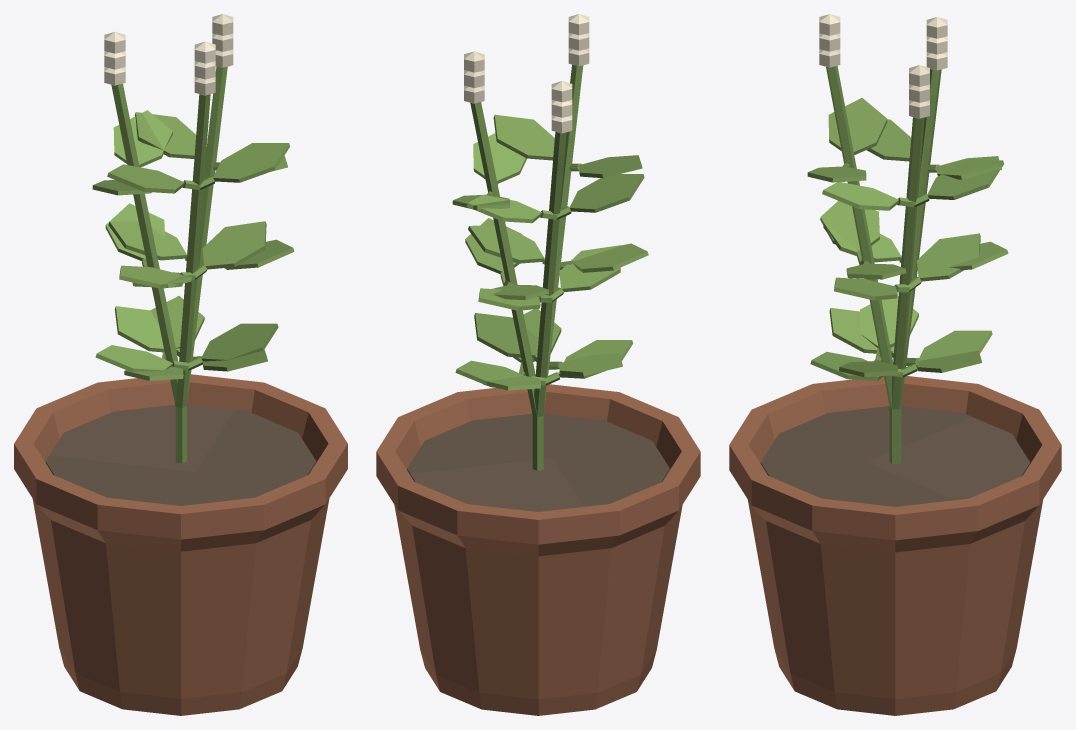
File: basil.glb
The picture shows the model from 3 angles, left to right: view 1: azimuth 30°, elevation 25°; view 2: azimuth 150°, elevation 25°; view 3: azimuth 270°, elevation 25°; orthographic projection. The views are drawn at different scales.
Parts seen in each view (by area): view 1: basil/review-terra-vessel, basil/review-rooted-soil, basil/stem-017, basil/stem-001, basil/stem-033, basil/leaf-025, basil/leaf-029, basil/leaf-021, basil/leaf-045, basil/leaf-037, basil/leaf-041, basil/leaf-011 (+9 smaller); view 2: basil/review-terra-vessel, basil/review-rooted-soil, basil/stem-001, basil/stem-033, basil/stem-017, basil/leaf-029, basil/leaf-013, basil/leaf-021, basil/leaf-025, basil/leaf-043, basil/leaf-009, basil/leaf-023 (+11 smaller); view 3: basil/review-terra-vessel, basil/review-rooted-soil, basil/stem-033, basil/stem-017, basil/stem-001, basil/leaf-041, basil/leaf-027, basil/leaf-045, basil/leaf-023, basil/leaf-037, basil/leaf-043, basil/leaf-005 (+11 smaller).
Boxes of the visible parts, <box> form: basil/review-terra-vessel: <box>14,374,347,715</box>; basil/review-rooted-soil: <box>45,404,316,505</box>; basil/stem-017: <box>175,94,210,460</box>; basil/stem-001: <box>111,83,182,463</box>; basil/stem-033: <box>182,66,227,463</box>; basil/leaf-025: <box>202,221,266,269</box>; basil/leaf-029: <box>213,143,289,182</box>; basil/leaf-021: <box>201,323,278,361</box>; basil/leaf-045: <box>135,112,196,158</box>; basil/leaf-037: <box>114,306,179,352</box>; basil/leaf-041: <box>108,221,186,260</box>; basil/leaf-011: <box>113,110,172,167</box>; basil/review-terra-vessel: <box>376,384,700,715</box>; basil/review-rooted-soil: <box>407,413,669,511</box>; basil/stem-001: <box>532,132,566,470</box>; basil/stem-033: <box>470,102,543,470</box>; basil/stem-017: <box>540,64,583,467</box>; basil/leaf-029: <box>493,114,554,160</box>; basil/leaf-013: <box>569,174,644,212</box>; basil/leaf-021: <box>474,312,537,358</box>; basil/leaf-025: <box>468,225,543,263</box>; basil/leaf-043: <box>473,133,526,183</box>; basil/leaf-009: <box>559,245,620,291</box>; basil/leaf-023: <box>572,243,648,272</box>; basil/review-terra-vessel: <box>729,376,1061,715</box>; basil/review-rooted-soil: <box>760,406,1030,506</box>; basil/stem-033: <box>889,117,924,463</box>; basil/stem-017: <box>826,65,898,464</box>; basil/stem-001: <box>896,69,941,463</box>; basil/leaf-041: <box>917,233,980,281</box>; basil/leaf-027: <box>828,98,887,154</box>; basil/leaf-045: <box>927,160,1003,199</box>; basil/leaf-023: <box>820,200,879,250</box>; basil/leaf-037: <box>915,330,992,368</box>; basil/leaf-043: <box>822,182,898,210</box>; basil/leaf-005: <box>829,308,894,353</box>.
Bounding box in the file's own units: 0.19 × 0.409 × 0.19.
4 materials, 4 textured.
